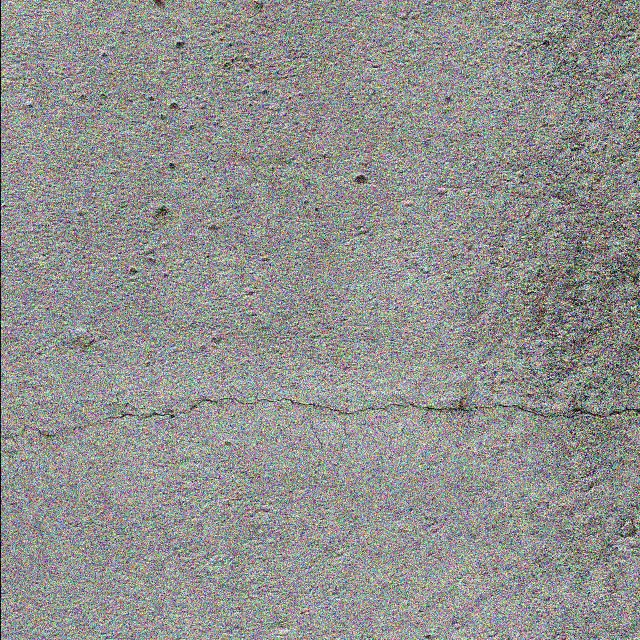SurfaceCrack: (0, 348, 639, 472)
